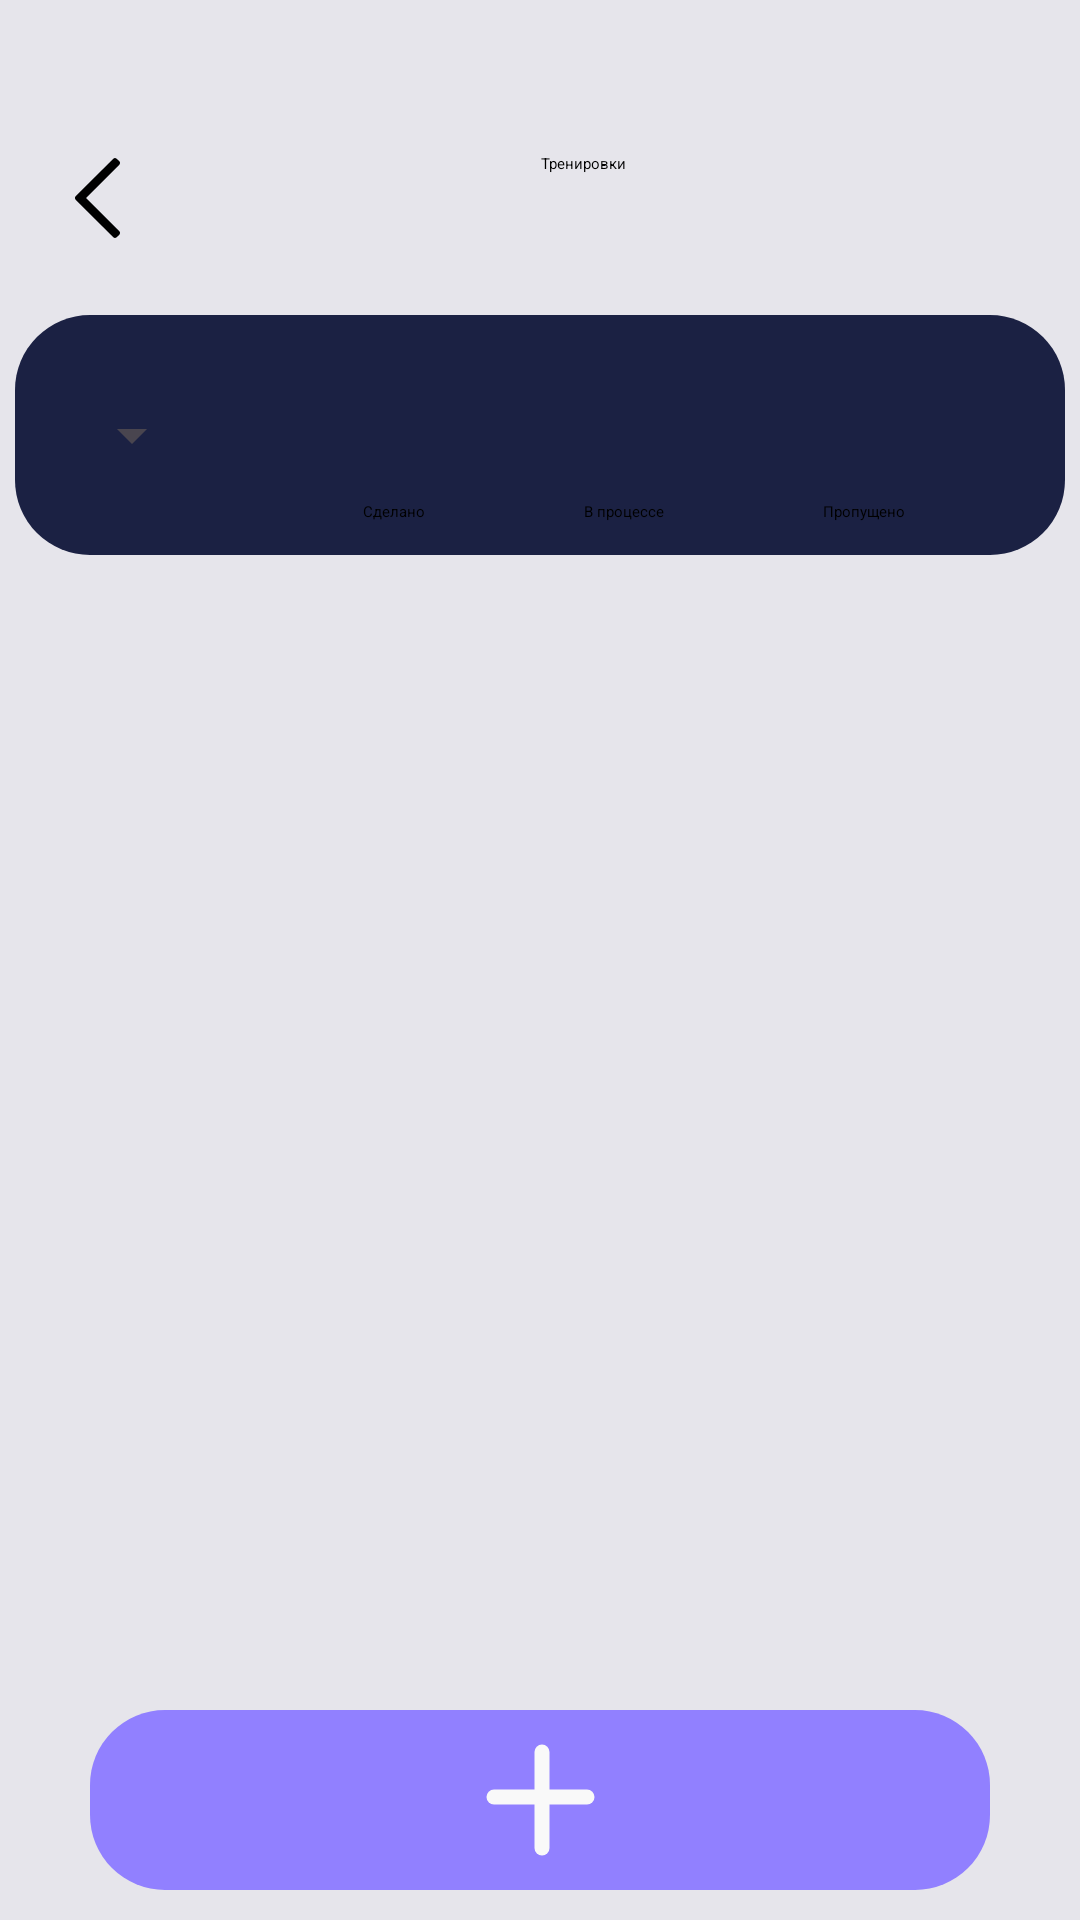

Screen size 1080×1920. Icon name, then its center in pixels as [x,y]:
back: [97,198]
